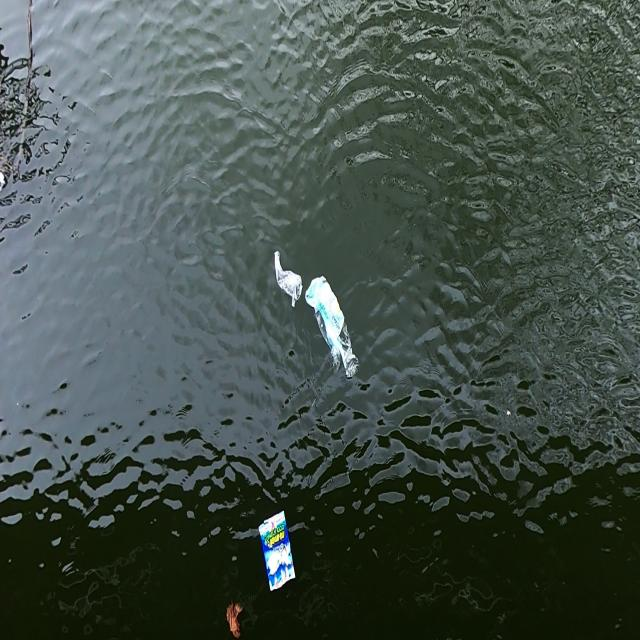Autre plastique: (255, 504, 302, 598)
Sac plastique: (304, 271, 363, 386), (271, 246, 305, 313)
